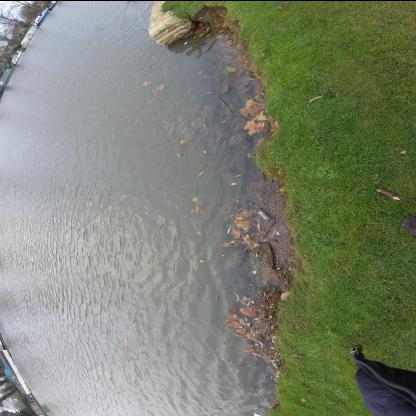cam: (252, 201, 274, 221)
